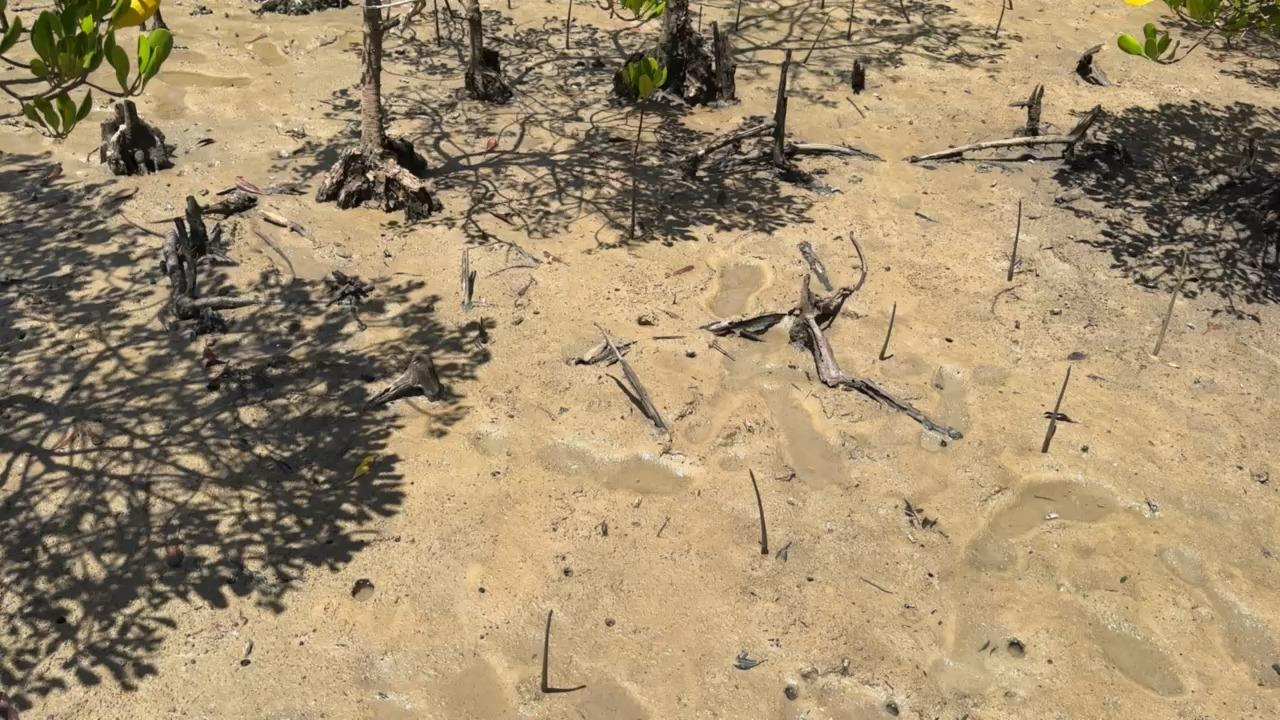Tree: (613, 53, 666, 158), (1154, 250, 1188, 356), (1042, 366, 1072, 452), (748, 467, 769, 555), (539, 608, 554, 691), (877, 301, 897, 360), (1009, 200, 1023, 280), (629, 178, 638, 235), (994, 0, 1005, 38), (565, 0, 572, 49), (847, 0, 854, 39), (734, 0, 743, 30), (900, 0, 911, 24), (698, 4, 702, 30)
